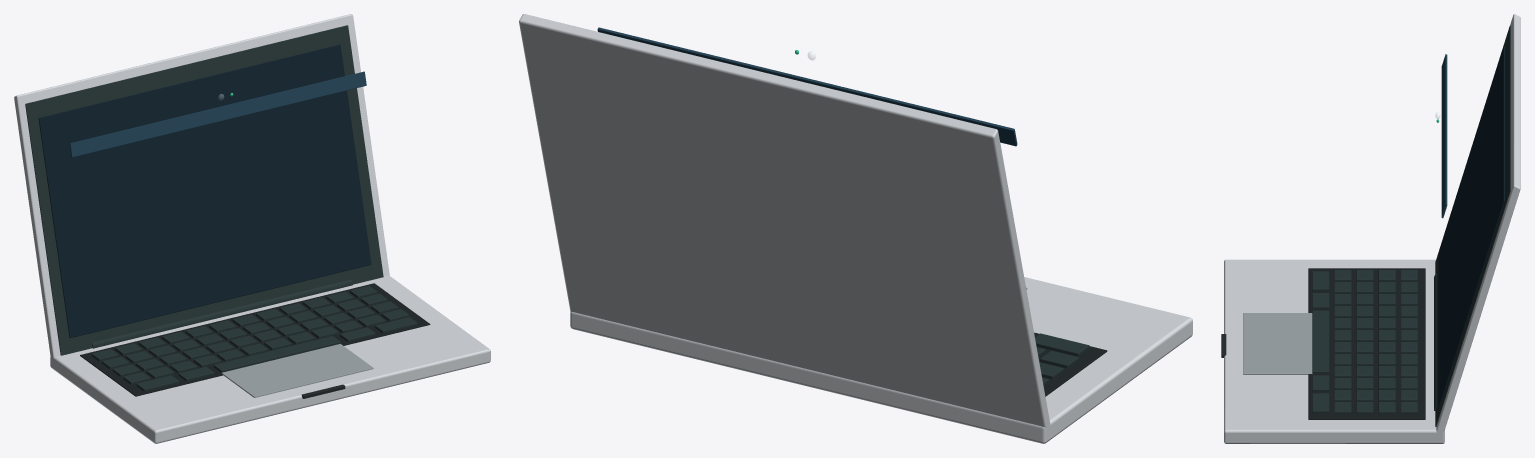
Rendered from wp-ordinateur-portable.glb.
3 renders of one model, left to right at view 1: azimuth 30°, elevation 25°; view 2: azimuth 150°, elevation 25°; view 3: azimuth 270°, elevation 25°, orthographic. The views are drawn at different scales.
Parts seen in each view (by area): view 1: wp-ordinateur-portable; view 2: wp-ordinateur-portable; view 3: wp-ordinateur-portable.
Boxes of the visible parts, left/top/right/bottom form: wp-ordinateur-portable: left=14, top=14, right=490, bottom=443; wp-ordinateur-portable: left=519, top=14, right=1192, bottom=443; wp-ordinateur-portable: left=1221, top=14, right=1520, bottom=443.
Bounding box in the file's own units: 0.34 × 0.2394 × 0.2496.
